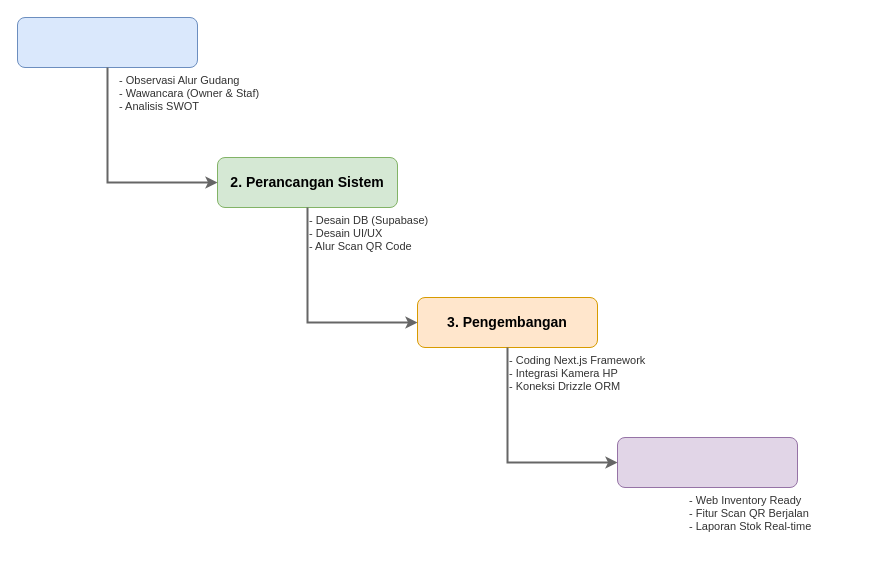
This 885x565 diagram has some shape labels left out. The centre of each missing label's shape, as x and y in pixels:
1. Analisis Kebutuhan: the point at 107,42
4. Hasil (Output): the point at 707,462
